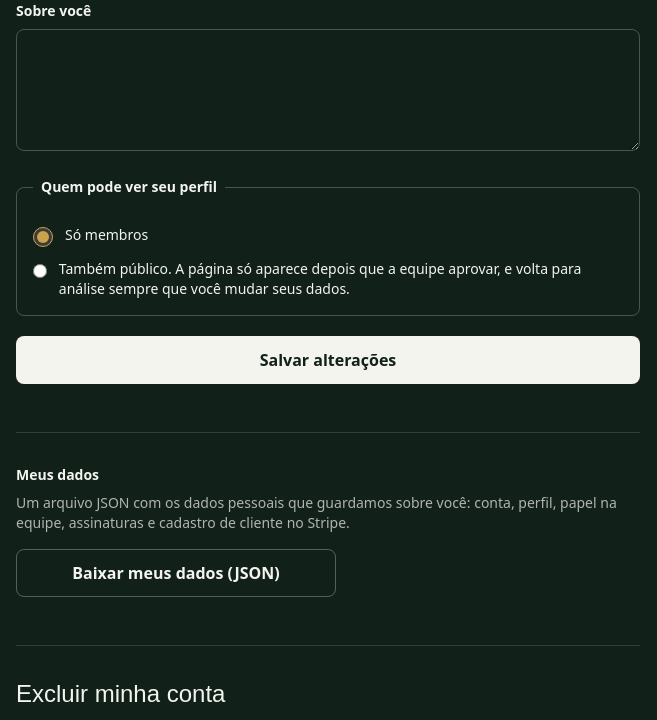
Test case: tela Meu perfil › UPDATE que não casa nenhuma linha (RLS) vira erro, não 'Perfil salvo'
This screenshot has width=657, height=720.
(page scrolled)
Click the button "Salvar alterações": (328, 360) left=16, top=336, right=640, bottom=384
(page scrolled)
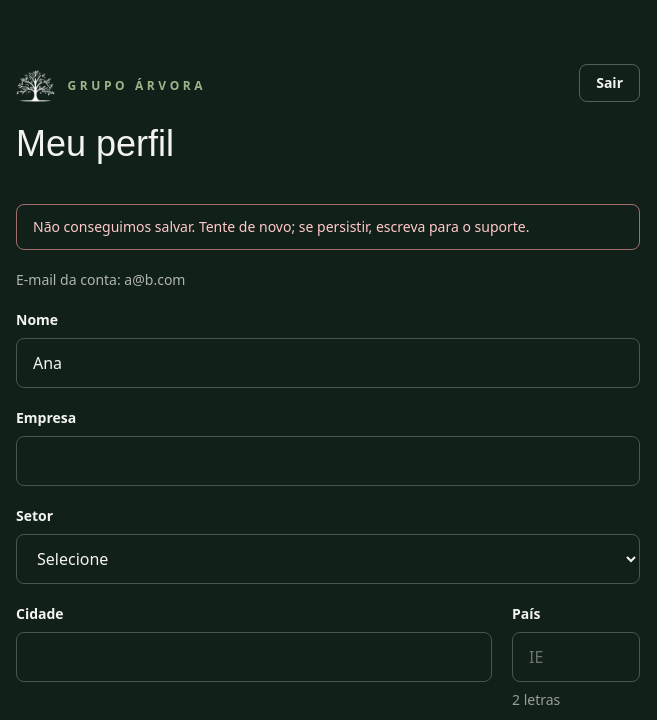
Check: the message shows "Não conseguimos salvar", box left=33, top=217, right=530, bottom=236
